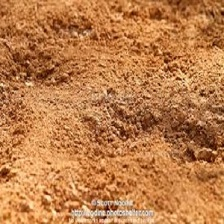clay_soil: (6, 14, 219, 201)
